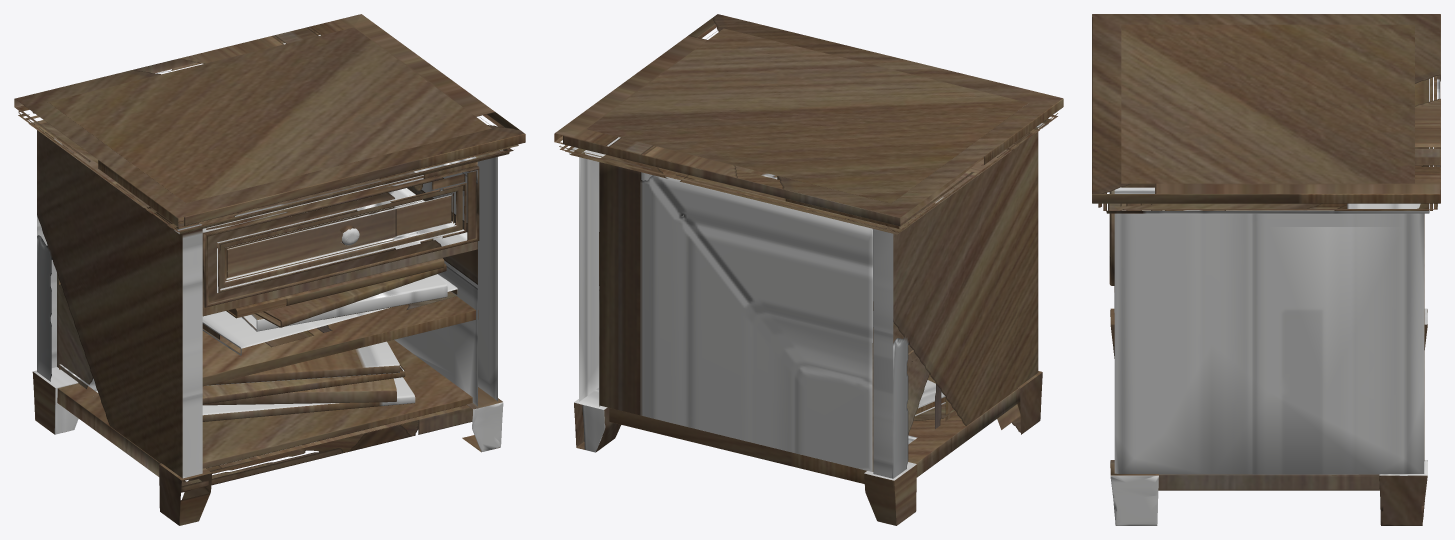
The picture shows the model from 3 angles, left to right: view 1: azimuth 30°, elevation 25°; view 2: azimuth 150°, elevation 25°; view 3: azimuth 270°, elevation 25°; orthographic projection. The views are drawn at different scales.
Visible parts, largest first — view 1: solid_001, solid_005, solid_006, solid_003; view 2: solid_001; view 3: solid_001.
Boxes of the visible parts, left/top/right/bottom form: solid_001: left=14, top=14, right=525, bottom=525; solid_005: left=202, top=263, right=447, bottom=405; solid_006: left=207, top=258, right=444, bottom=385; solid_003: left=202, top=274, right=457, bottom=421; solid_001: left=554, top=14, right=1063, bottom=525; solid_001: left=1092, top=14, right=1440, bottom=525.
Size of the model in its own units: 1.45 by 1.27 by 1.19.
